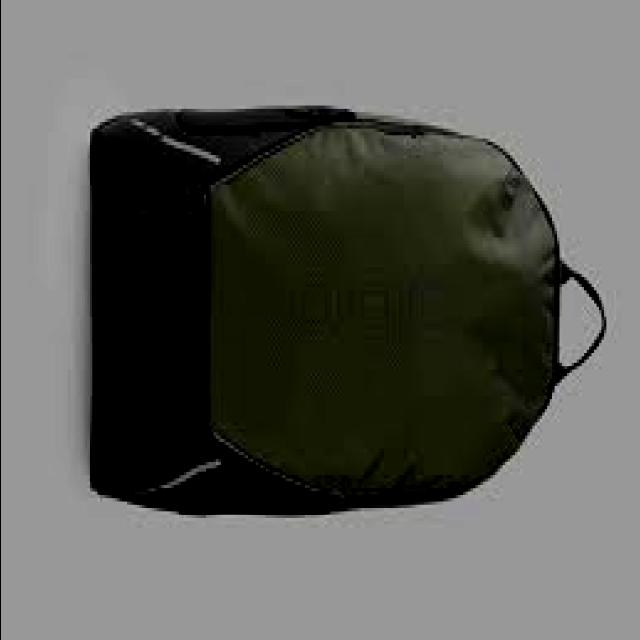backpack: (90, 103, 609, 519)
